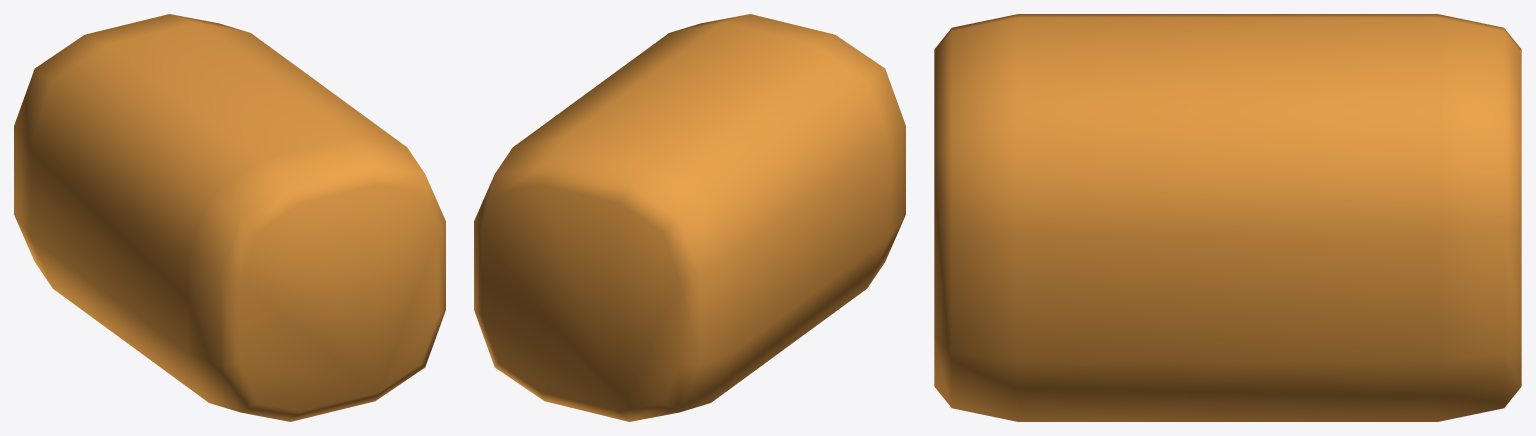
The model's file is Hay-2.fbx.
3 views of the same model, side by side, from view 1: azimuth 30°, elevation 25°; view 2: azimuth 150°, elevation 25°; view 3: azimuth 270°, elevation 25° (orthographic). The views are drawn at different scales.
Parts seen in each view (by area): view 1: Cube.817; view 2: Cube.817; view 3: Cube.817.
Part boxes in pixels (x1=…): Cube.817: x1=14, y1=14, x2=445, y2=421; Cube.817: x1=474, y1=14, x2=905, y2=421; Cube.817: x1=934, y1=14, x2=1521, y2=421.
Size of the model in its own units: 16.4 by 16.4 by 25.64.
